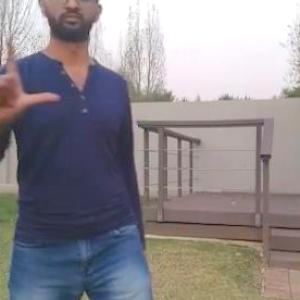land_hand: (0, 20, 68, 130)
